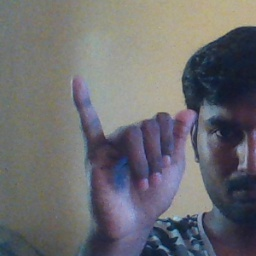J: (69, 71, 199, 235)
